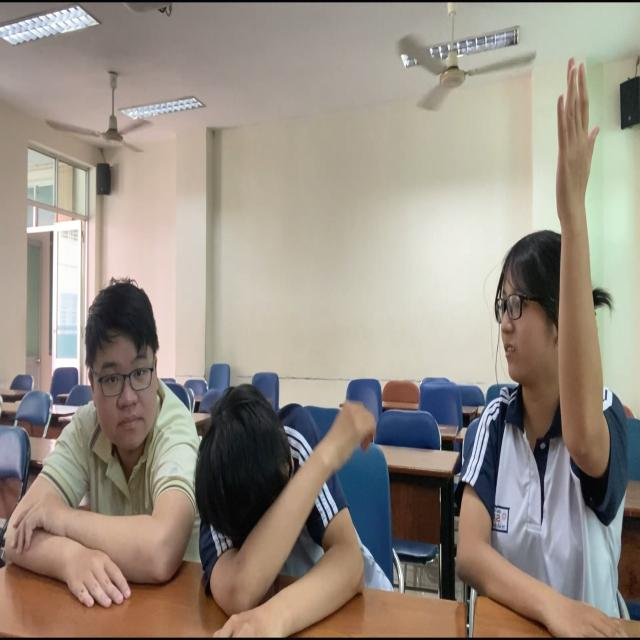raise_hand: (423, 45, 640, 640)
sleep: (188, 351, 397, 640)
